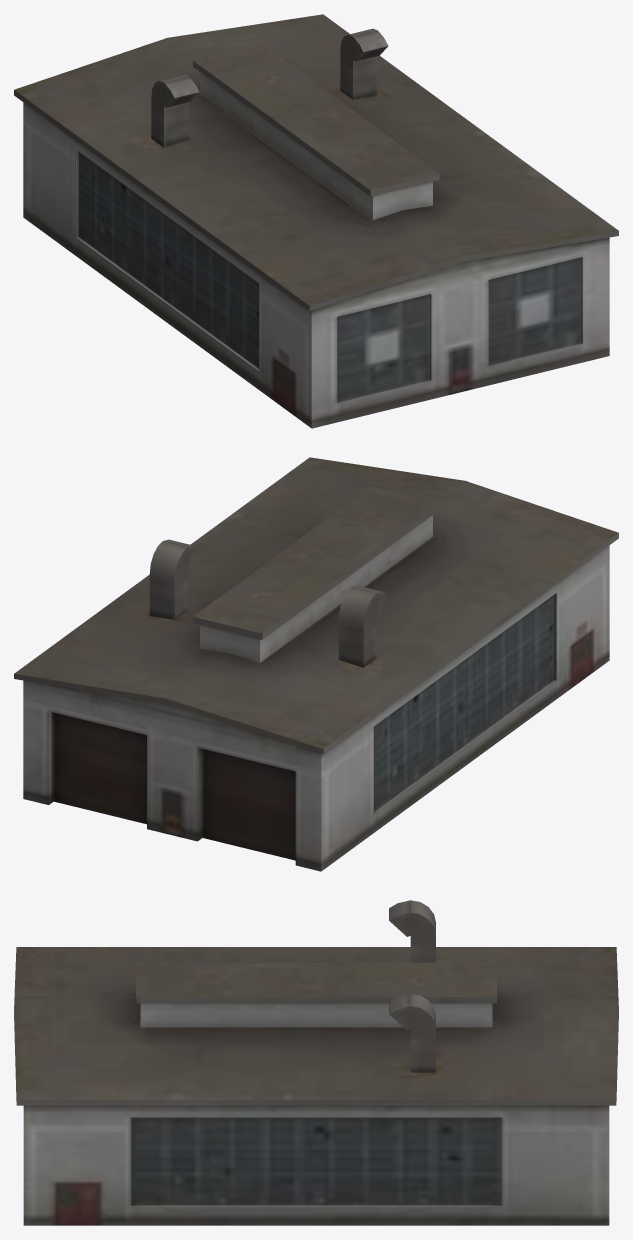
Rendered from rail-depot.lod1.glb.
The picture shows the model from 3 angles, top to bottom: view 1: azimuth 30°, elevation 25°; view 2: azimuth 150°, elevation 25°; view 3: azimuth 270°, elevation 25°; orthographic projection.
Visible parts, largest first — view 1: 3LOD0_UtilityBuilding3_0; view 2: 3LOD0_UtilityBuilding3_0; view 3: 3LOD0_UtilityBuilding3_0.
Boxes of the visible parts, <box> form: 3LOD0_UtilityBuilding3_0: <box>14,14,618,428</box>; 3LOD0_UtilityBuilding3_0: <box>14,457,618,871</box>; 3LOD0_UtilityBuilding3_0: <box>14,900,618,1225</box>.
Size of the model in its own units: 16.32 by 9.88 by 27.2.
Materials: 1 (1 with a texture image).
